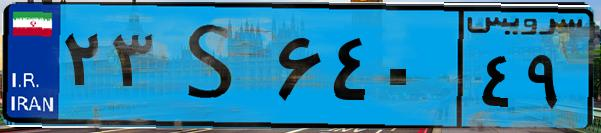0: (385, 28, 445, 110)
2: (57, 26, 110, 100)
3: (110, 28, 158, 98)
4: (330, 28, 385, 110), (475, 38, 525, 113)
6: (270, 28, 330, 110)
9: (525, 38, 570, 115)
S: (158, 12, 270, 120)
